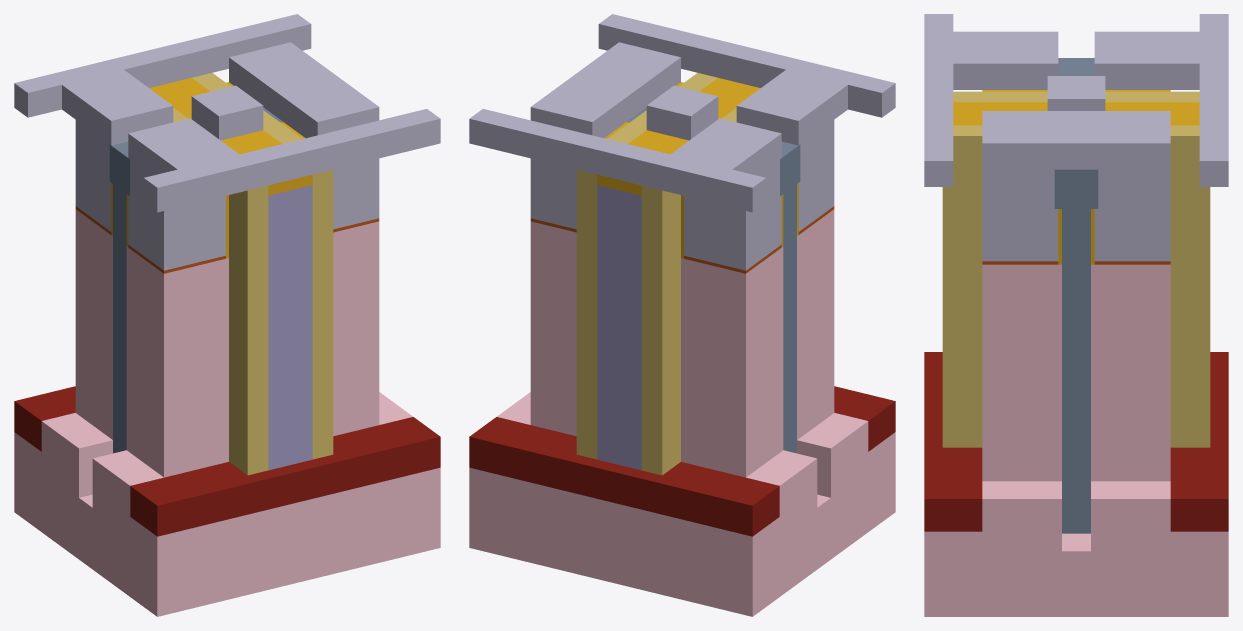
File: inv_fs.obj
3 views of the same model, side by side, from view 1: azimuth 30°, elevation 25°; view 2: azimuth 150°, elevation 25°; view 3: azimuth 270°, elevation 25° (orthographic). The views are drawn at different scales.
Visible parts, largest first — view 1: substrate, epi_n_source, sti, m1_gnd, m1_vdd, mo_n, spacer_n_source, epi_n_drain, m1_out, epi_p_source, spacer_n_drain, ni_n_source (+6 smaller); view 2: substrate, epi_p_source, sti, m1_vdd, m1_gnd, mo_p, spacer_p_source, epi_p_drain, m1_out, epi_n_source, spacer_p_drain, ni_p_source (+6 smaller); view 3: substrate, epi_n_drain, epi_p_drain, sti, spacer_n_drain, spacer_p_drain, m1_gnd, m1_vdd, m1_out, wall, ni_n_drain, ni_p_drain (+6 smaller).
Boxes of the visible parts, box(x1,y1,x2,y2) form: substrate: box(14, 392, 440, 616); epi_n_source: box(126, 247, 228, 477); sti: box(14, 386, 440, 536); m1_gnd: box(128, 109, 440, 212); m1_vdd: box(14, 14, 311, 145); mo_n: box(268, 185, 312, 470); spacer_n_source: box(229, 185, 268, 475); epi_n_drain: box(333, 221, 379, 436); m1_out: box(229, 42, 379, 138); epi_p_source: box(75, 209, 112, 439); spacer_n_drain: box(263, 120, 333, 459); ni_n_source: box(128, 159, 225, 270); substrate: box(469, 392, 895, 616); epi_p_source: box(681, 247, 783, 477); sti: box(469, 386, 895, 536); m1_vdd: box(469, 109, 781, 212); m1_gnd: box(598, 14, 895, 145); mo_p: box(597, 185, 641, 470); spacer_p_source: box(641, 185, 680, 475); epi_p_drain: box(530, 221, 576, 436); m1_out: box(530, 42, 680, 138); epi_n_source: box(797, 209, 834, 439); spacer_p_drain: box(576, 120, 646, 459); ni_p_source: box(684, 159, 781, 270); substrate: box(924, 481, 1228, 616); epi_n_drain: box(982, 264, 1061, 481); epi_p_drain: box(1091, 264, 1170, 481); sti: box(924, 352, 1228, 531); spacer_n_drain: box(942, 125, 982, 447); spacer_p_drain: box(1170, 125, 1210, 447); m1_gnd: box(924, 14, 1058, 186); m1_vdd: box(1094, 14, 1228, 186); m1_out: box(982, 111, 1170, 169); wall: box(1062, 209, 1090, 533); ni_n_drain: box(982, 169, 1058, 261); ni_p_drain: box(1094, 169, 1170, 261).
Bounding box in the file's own units: 96 × 139 × 84.
